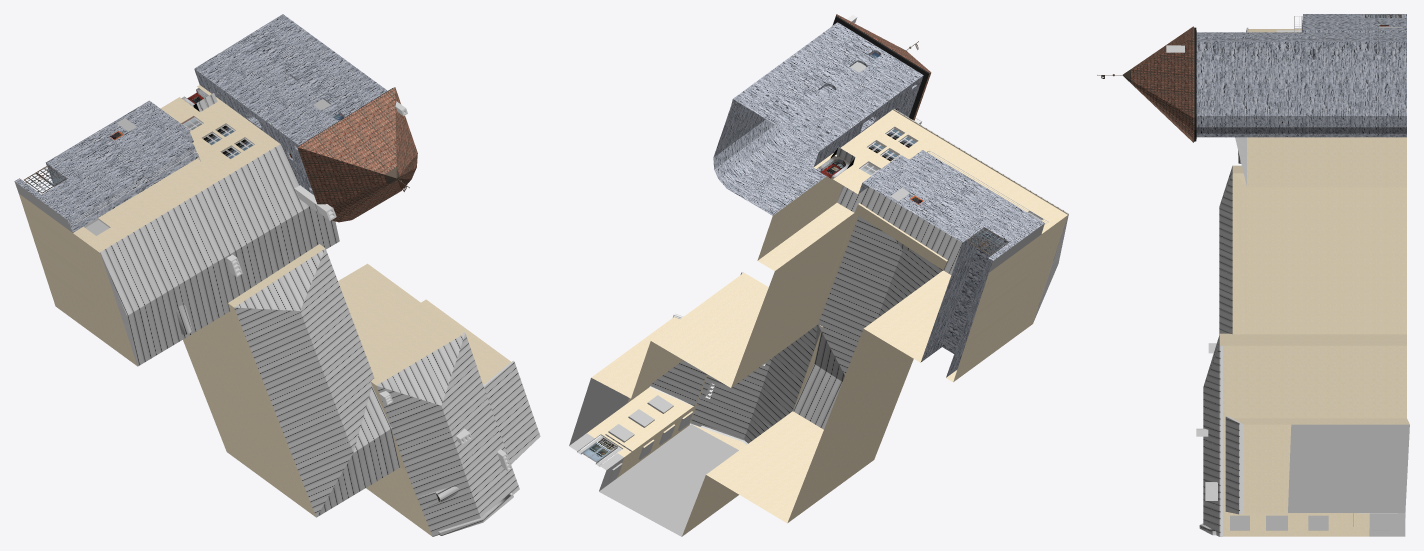
Rendered from Myyrivahe_12.obj.
3 views of the same model, side by side, from view 1: azimuth 30°, elevation 25°; view 2: azimuth 150°, elevation 25°; view 3: azimuth 270°, elevation 25° (orthographic). The views are drawn at different scales.
Parts seen in each view (by area): view 1: Myyrivahe_12; view 2: Myyrivahe_12; view 3: Myyrivahe_12.
Boxes of the visible parts, x1,y1,x2,y2 form: Myyrivahe_12: (14, 14, 540, 536); Myyrivahe_12: (569, 14, 1068, 536); Myyrivahe_12: (1097, 14, 1409, 536).
Size of the model in its own units: 42.94 by 44.05 by 27.17.
